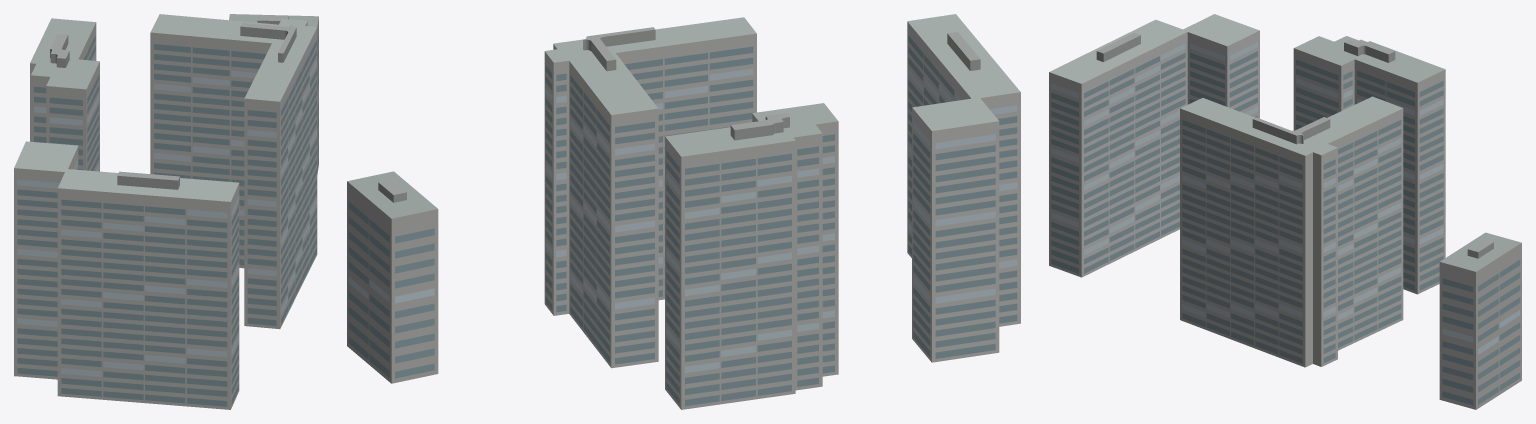
File: apt-a13986207.glb
The picture shows the model from 3 angles, left to right: view 1: azimuth 30°, elevation 25°; view 2: azimuth 150°, elevation 25°; view 3: azimuth 270°, elevation 25°; orthographic projection. The views are drawn at different scales.
Visible parts, largest first — view 1: apt-a13986207; view 2: apt-a13986207; view 3: apt-a13986207.
Boxes of the visible parts, x1=… form: apt-a13986207: x1=14, y1=14, x2=318, y2=409; apt-a13986207: x1=347, y1=14, x2=1020, y2=409; apt-a13986207: x1=1049, y1=14, x2=1521, y2=409.
Size of the model in its own units: 120 by 61 by 119.
